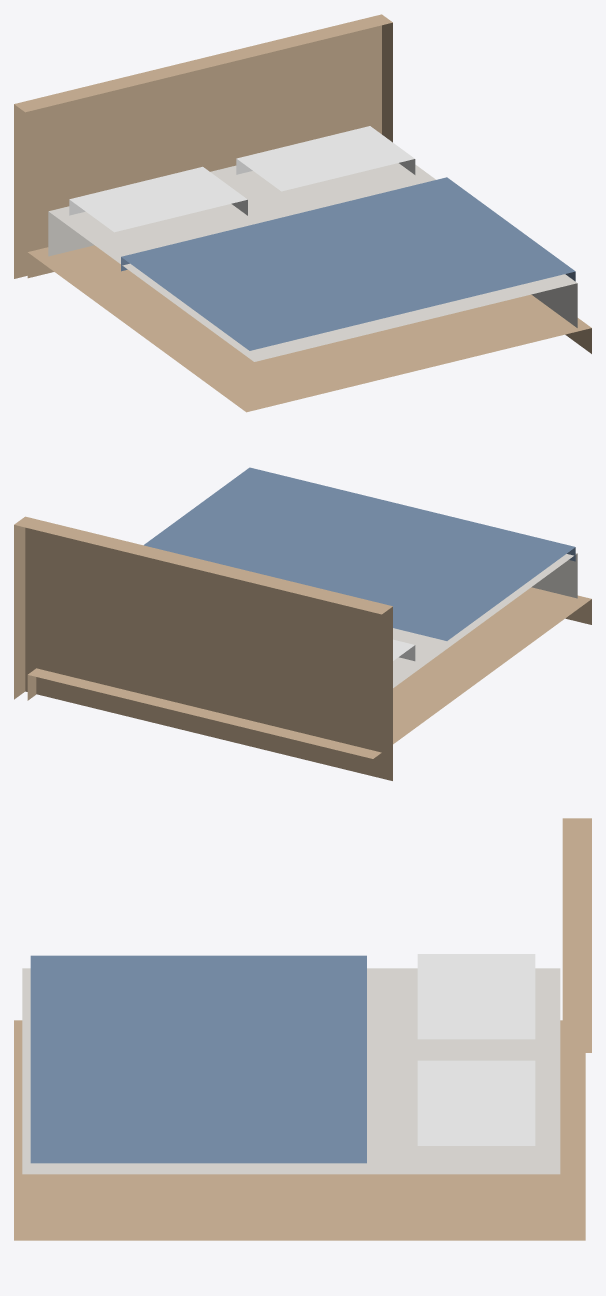
Rendered from bed.glb.
The picture shows the model from 3 angles, top to bottom: view 1: azimuth 30°, elevation 25°; view 2: azimuth 150°, elevation 25°; view 3: azimuth 270°, elevation 25°; orthographic projection. The views are drawn at different scales.
Visible parts, largest first — view 1: RootNode; view 2: RootNode; view 3: RootNode.
Boxes of the visible parts, bbox=[...] form: RootNode: bbox=[14, 14, 591, 412]; RootNode: bbox=[14, 467, 591, 780]; RootNode: bbox=[14, 818, 591, 1240].
Bounding box in the file's own units: 6.6 × 3 × 6.88.
